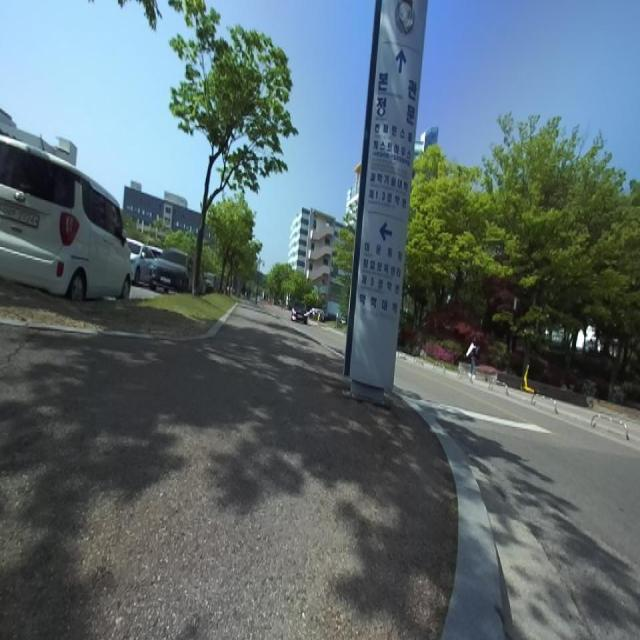sidewalk: (0, 302, 458, 639), (397, 391, 505, 640)
